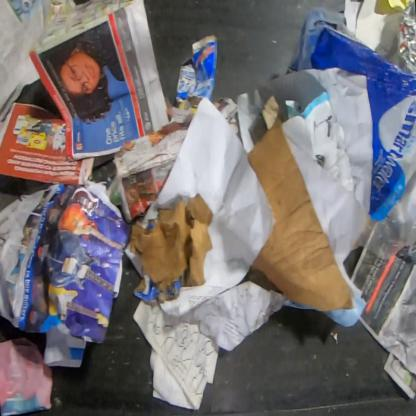cardboard: (247, 117, 356, 314), (129, 194, 214, 308), (175, 34, 218, 105)
soft_plastic: (292, 5, 416, 262), (396, 0, 415, 77)
